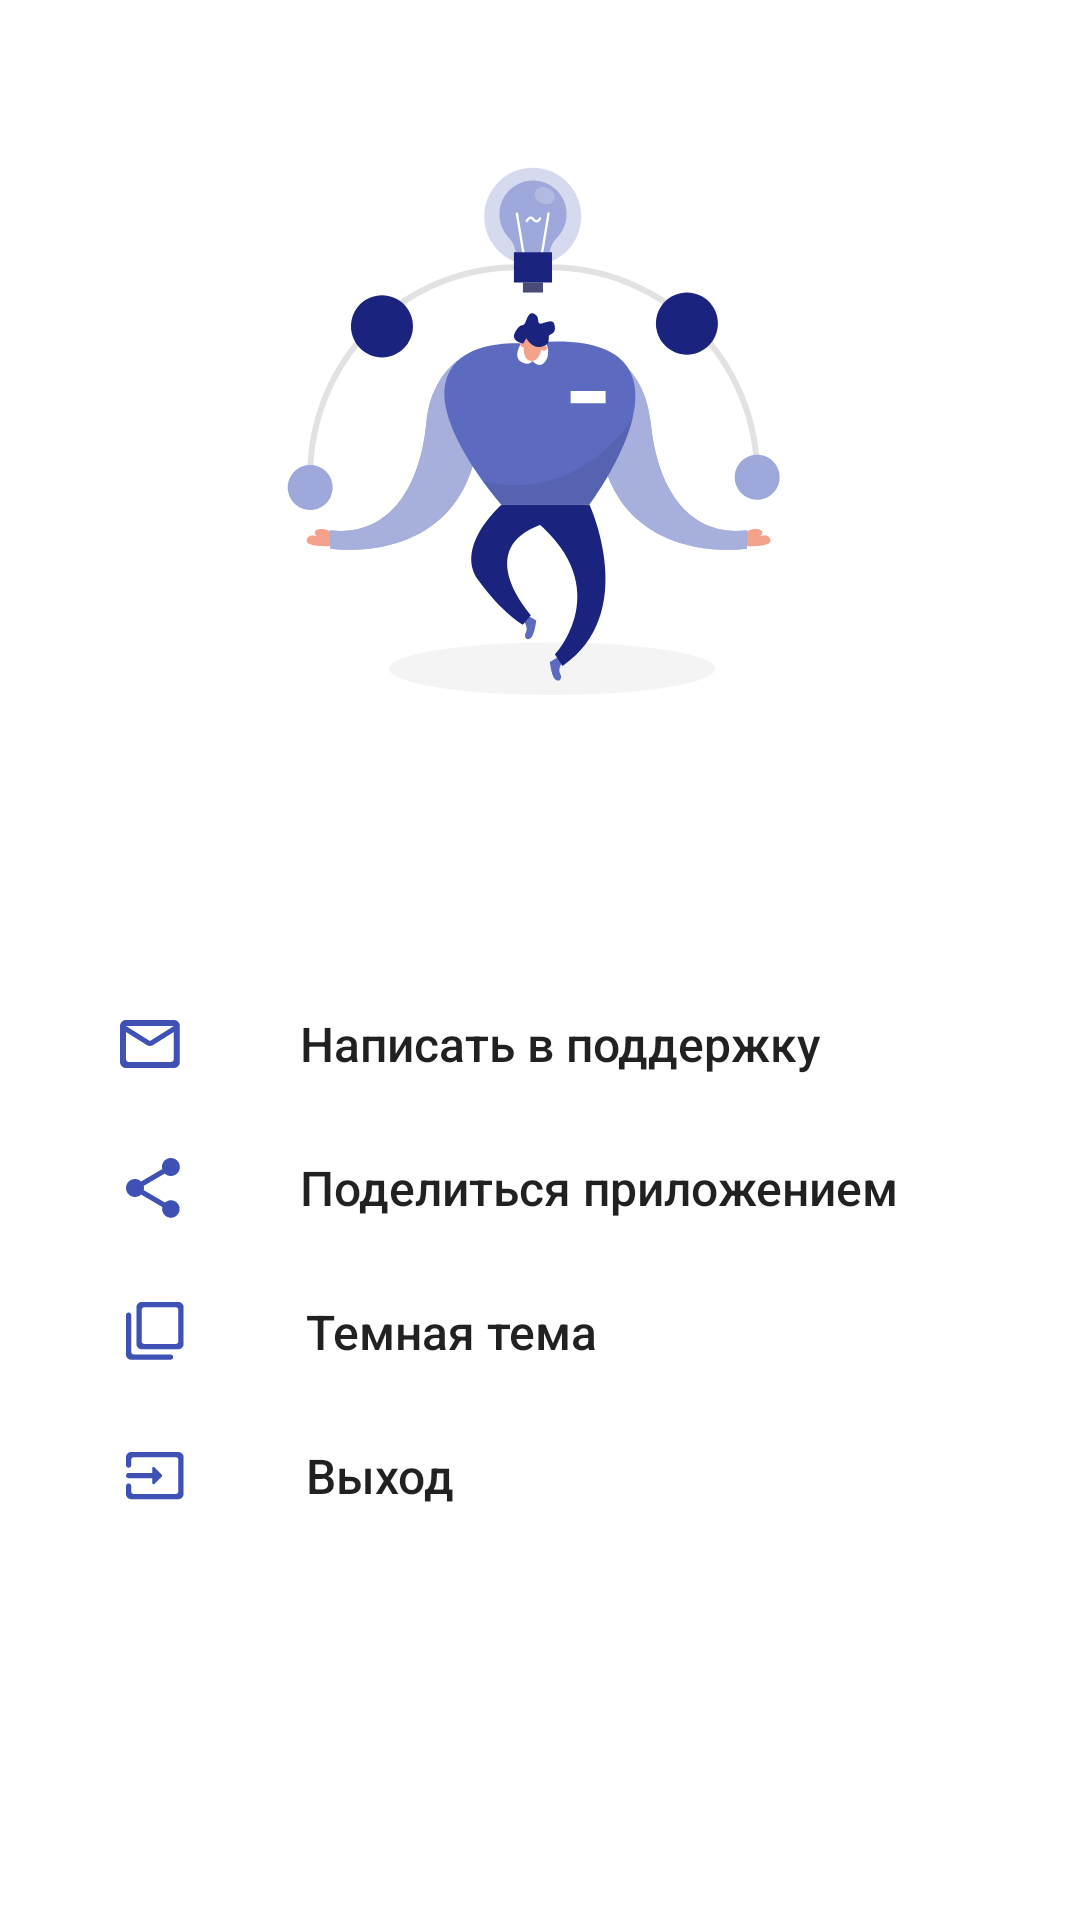

Screen size 1080w x 1920h. Icon name, then its box in pixels as (x1, y1, x2, y2):
mail: (120, 1020, 180, 1068)
settings exit: (126, 1452, 184, 1500)
share: (126, 1158, 180, 1218)
